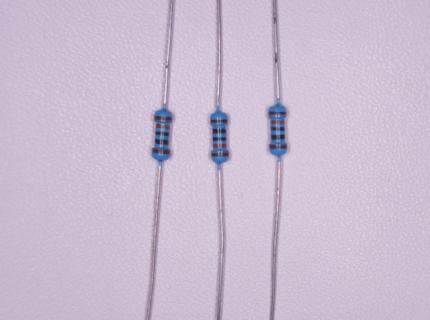Black band: (155, 139, 169, 145), (155, 131, 169, 137), (213, 137, 227, 142), (213, 129, 226, 134), (271, 127, 285, 131), (271, 135, 285, 139)
Brown band: (152, 149, 170, 154), (155, 116, 172, 121), (211, 153, 229, 157), (210, 119, 227, 123), (270, 145, 287, 149), (269, 112, 286, 115)
Orange band: (156, 124, 169, 130), (271, 120, 285, 124), (213, 144, 226, 148)
